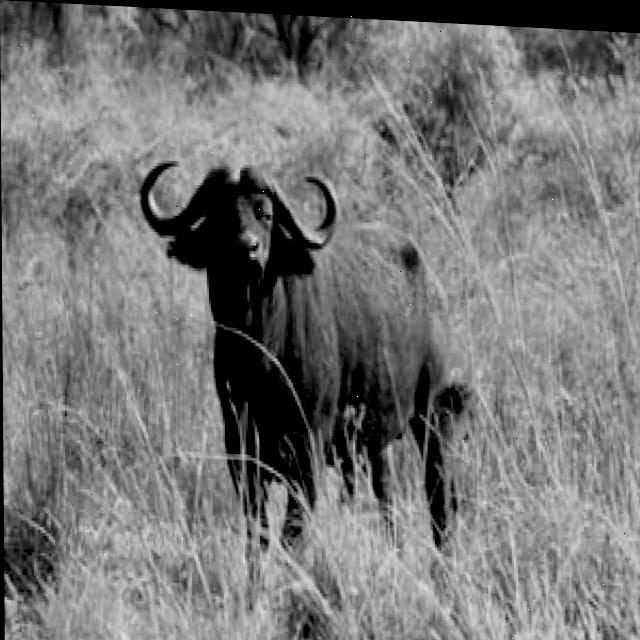Buffalo: (138, 159, 461, 572)
